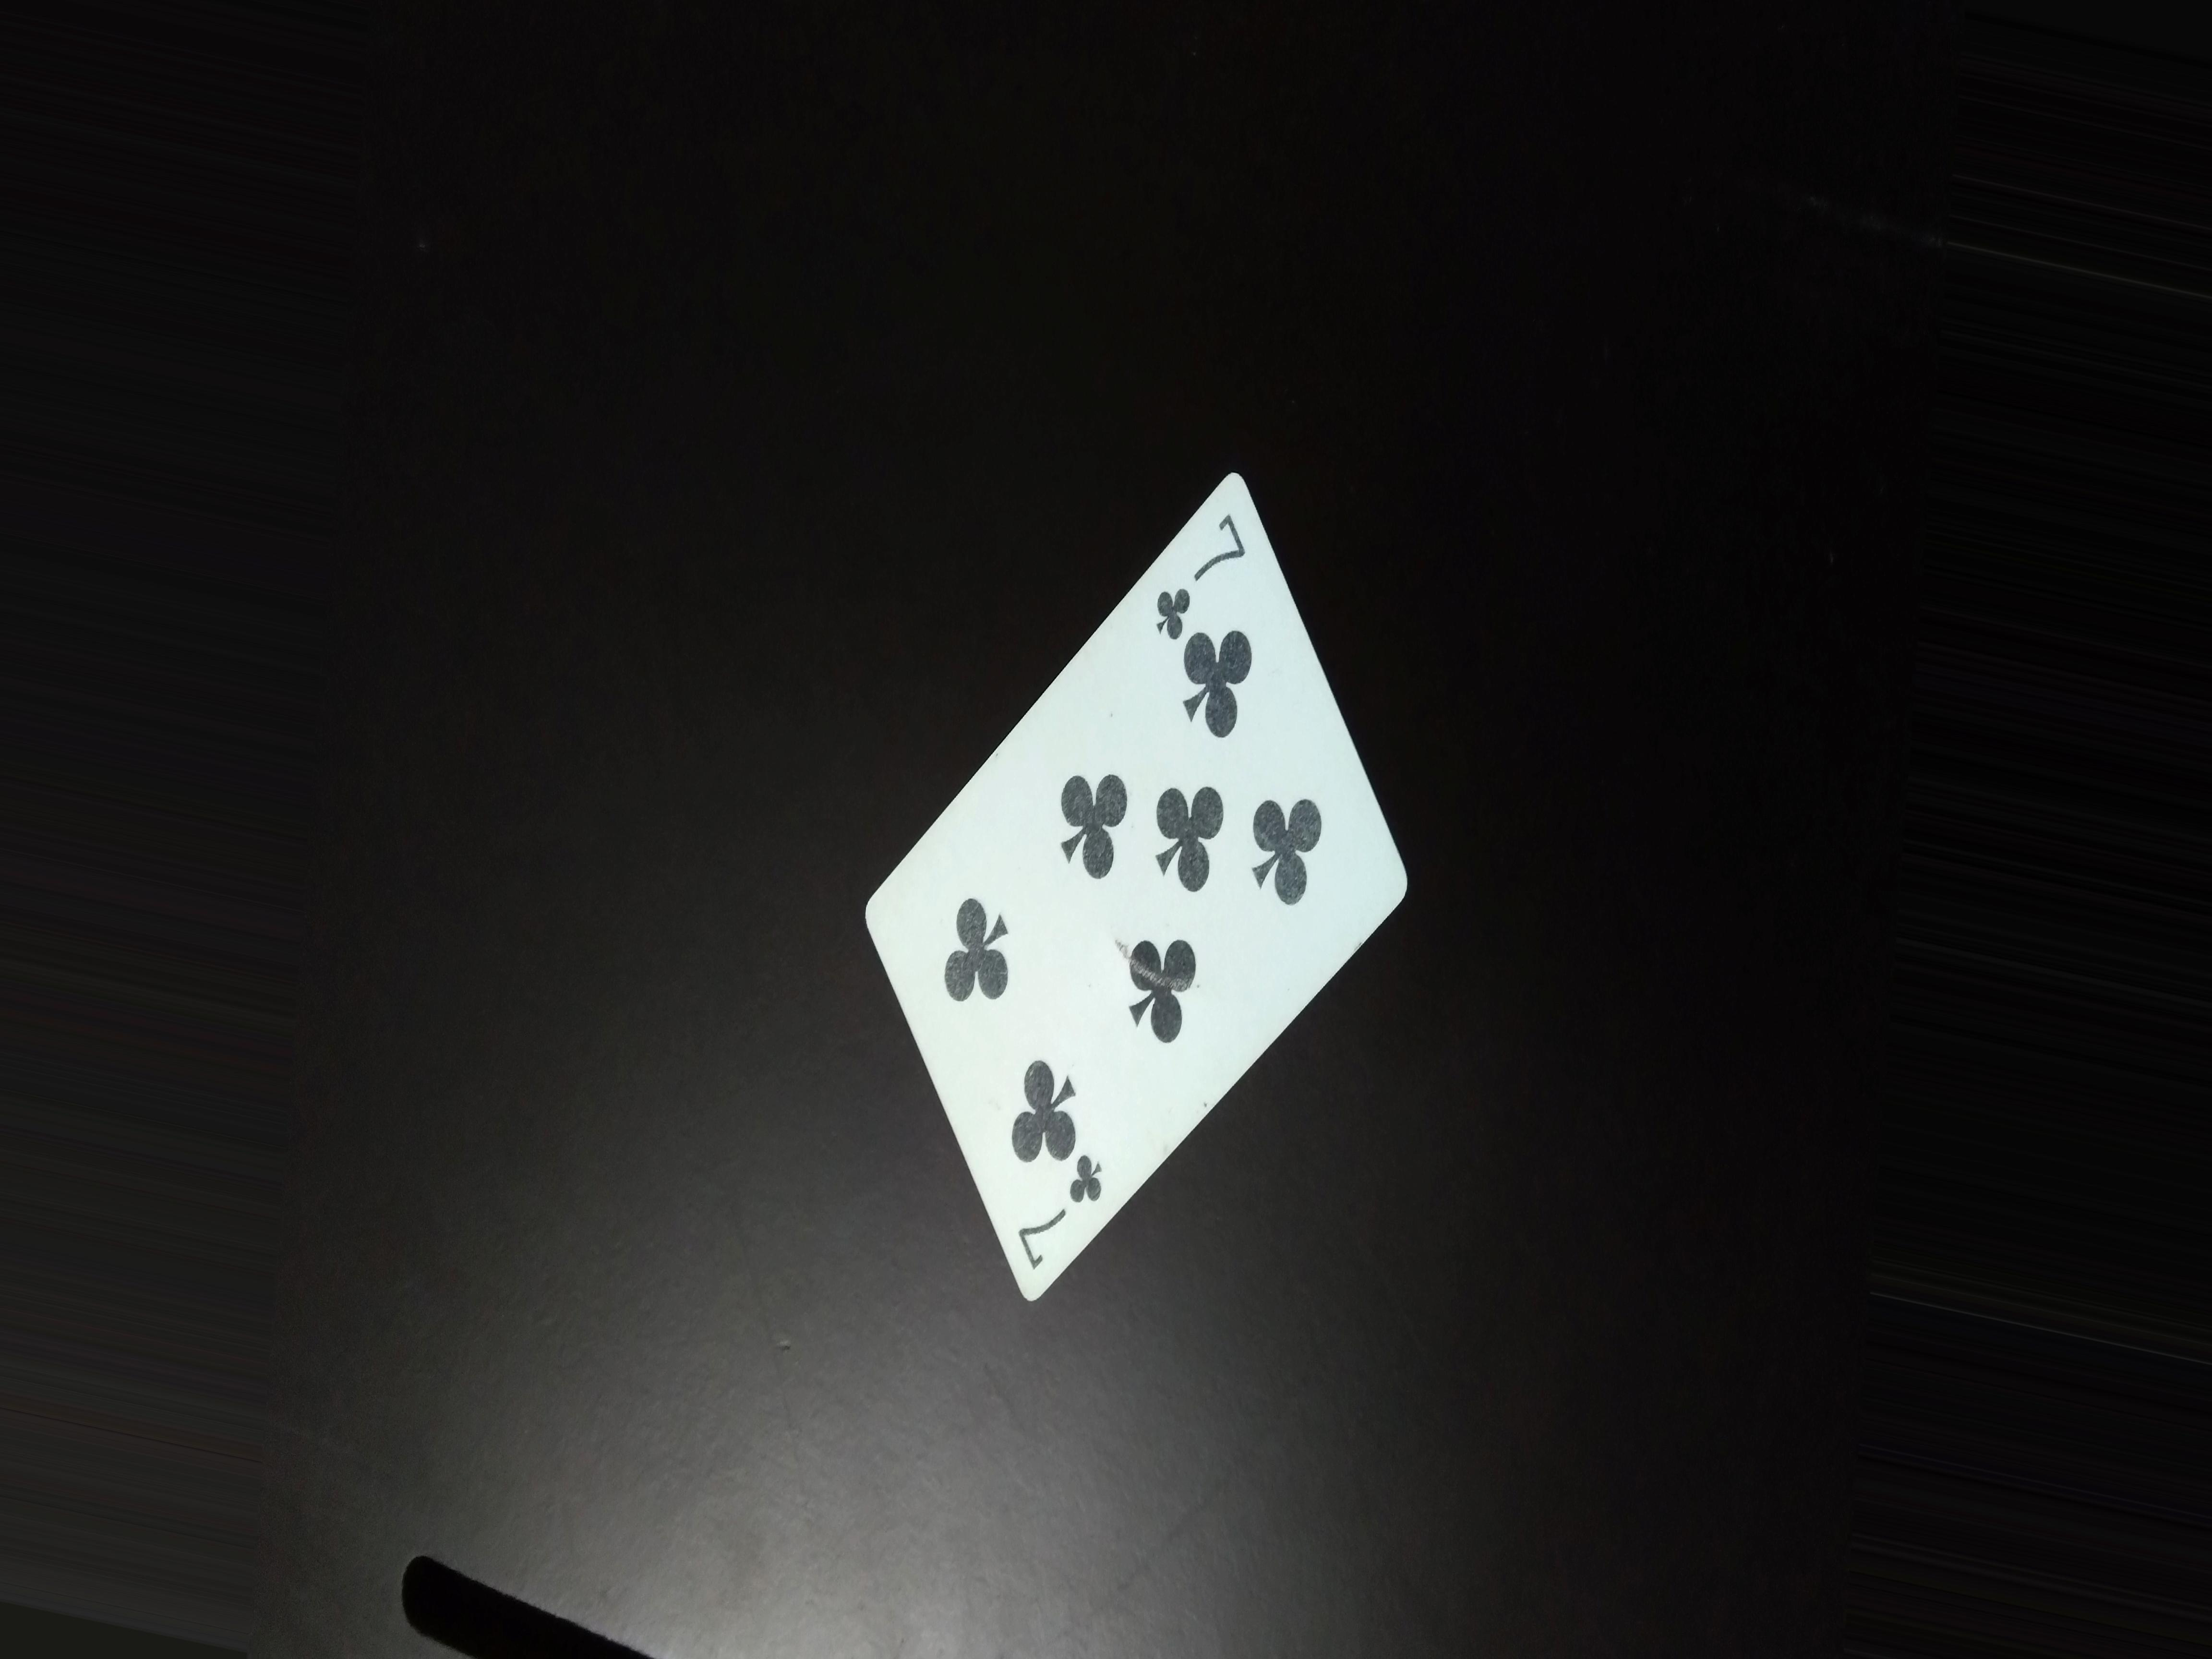7C: (1007, 1162, 1113, 1274)
